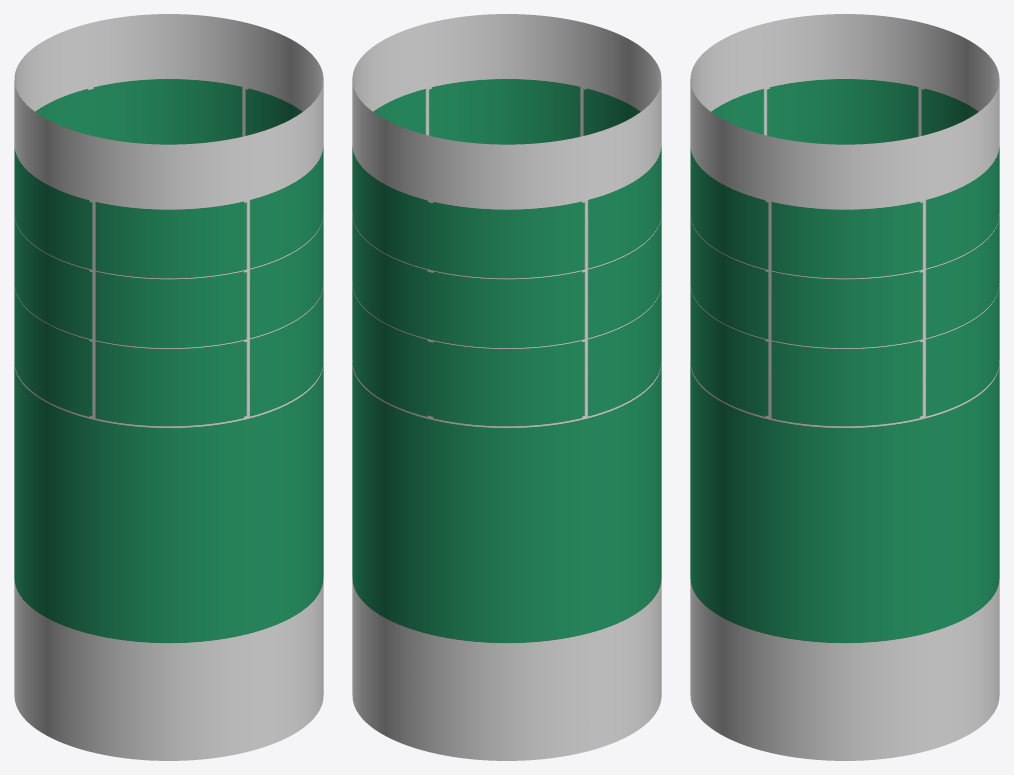
3 renders of one model, left to right at view 1: azimuth 30°, elevation 25°; view 2: azimuth 150°, elevation 25°; view 3: azimuth 270°, elevation 25°, orthographic.
Parts seen in each view (by area): view 1: Cylinder004; view 2: Cylinder004; view 3: Cylinder004.
Boxes of the visible parts, box(x1,y1,x2,y2) form: Cylinder004: box(14, 14, 323, 760); Cylinder004: box(352, 14, 661, 760); Cylinder004: box(690, 14, 999, 760).
Size of the model in its own units: 100 by 220 by 100.
1 material, 1 textured.
